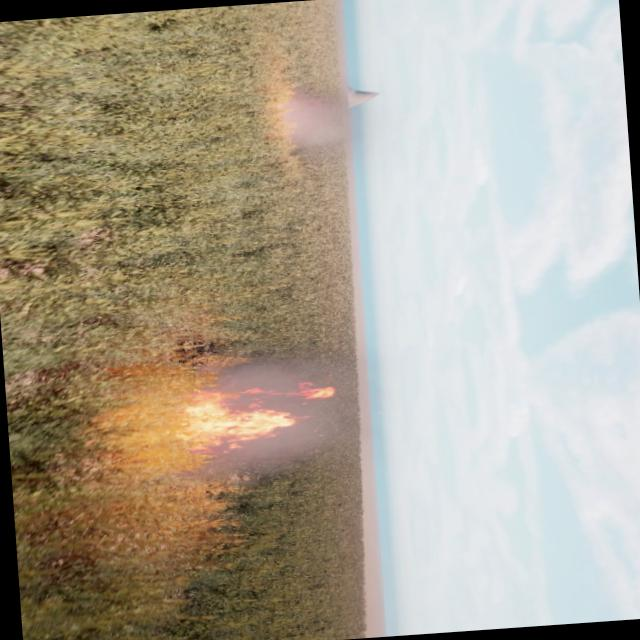fire: (184, 377, 345, 456)
smoke: (212, 352, 372, 478), (276, 86, 358, 154)
